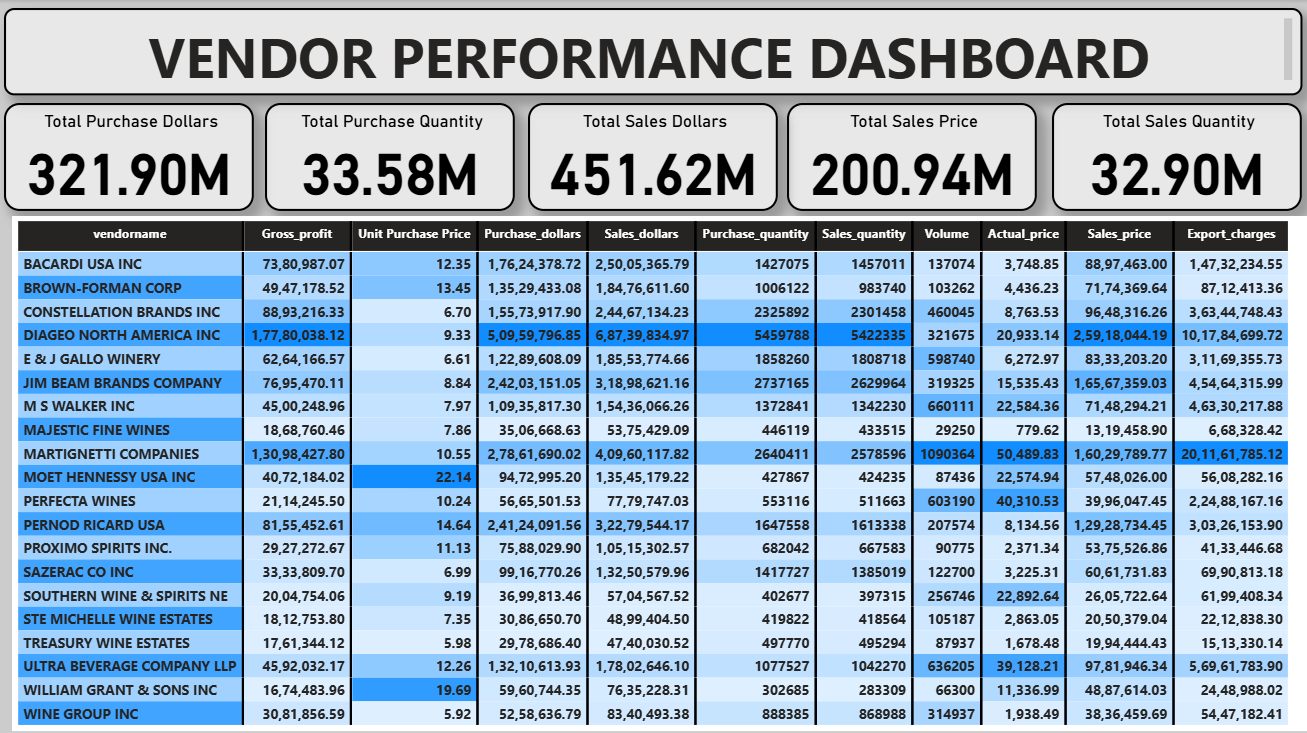

The dashboard page shown, as its layout file describes it:
{"tool":"powerbi","page":{"name":"Performance Dashboard","canvas":[1280,720],"ordinal":2},"visuals":[{"type":"textbox","box":[9.3,8.3,1263.5,84.6],"z":0},{"type":"card","title":"Total Purchase Dollars","fields":{"Values":["Sum(vendor_summary_table.total_purchase_dollars)"]},"box":[9.3,100,243.4,105.2],"z":1000},{"type":"card","title":"Total Sales Quantity","fields":{"Values":["Sum(vendor_summary_table.total_sales_quantity)"]},"box":[1029.4,100,243.4,105.2],"z":2000},{"type":"card","title":"Total Purchase Quantity","fields":{"Values":["Sum(vendor_summary_table.total_purchase_quantity)"]},"box":[264,100,243.4,105.2],"z":3000},{"type":"card","title":"Total Sales Price","fields":{"Values":["Sum(vendor_summary_table.total_sales_price)"]},"box":[771.5,100,243.4,105.2],"z":4000},{"type":"card","title":"Total Sales Dollars","fields":{"Values":["Sum(vendor_summary_table.total_sales_dollars)"]},"box":[519.8,100,243.4,105.2],"z":5000},{"type":"tableEx","fields":{"Values":["vendor_summary_table.vendorname","Sum(vendor_summary_table.gross_profit)","vendor_summary_table.Unit Purchase Price","Sum(vendor_summary_table.total_purchase_dollars)","Sum(vendor_summary_table.total_sales_dollars)","Sum(vendor_summary_table.total_purchase_quantity)","Sum(vendor_summary_table.total_sales_quantity)","Sum(vendor_summary_table.volume)","Sum(vendor_summary_table.actual_price)","Sum(vendor_summary_table.total_sales_price)","Sum(vendor_summary_table.total_freight_cost)"]},"box":[17.5,210.4,1262.5,501.3],"z":6000}]}

Visuals, with their boxes in screenshot pixels (x1, y1, x2, y2), scaled from the page's 1280x720 canvas onto the 1307x733 screenshot:
textbox: 9, 8, 1300, 95
"Total Purchase Dollars" card: 9, 102, 258, 209
"Total Sales Quantity" card: 1051, 102, 1300, 209
"Total Purchase Quantity" card: 270, 102, 518, 209
"Total Sales Price" card: 788, 102, 1036, 209
"Total Sales Dollars" card: 531, 102, 779, 209
tableEx - vendor_summary_table.vendorname x Sum(vendor_summary_table.gross_profit): 18, 214, 1306, 725
